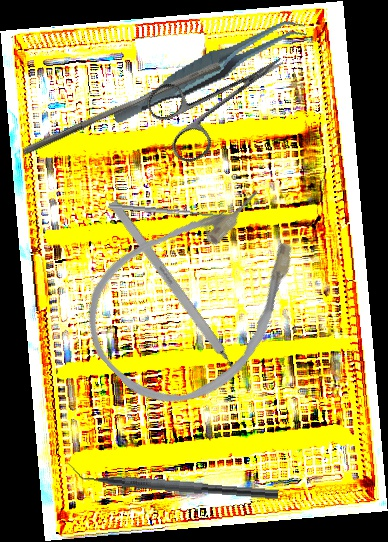Cannula: (59, 158, 339, 435)
Chopper: (65, 460, 280, 500)
Hook Surgical: (108, 199, 251, 389)
Iris Scissors: (141, 27, 305, 169)
Pusher: (21, 54, 222, 164)
Spatula Surgical: (108, 199, 227, 219)
Tissue Forceps: (101, 16, 318, 125)
